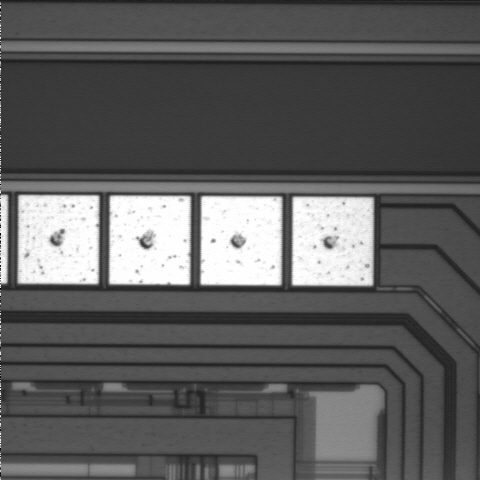pad: (109, 196, 191, 285), (200, 196, 282, 285), (18, 195, 99, 284), (292, 197, 373, 286)
